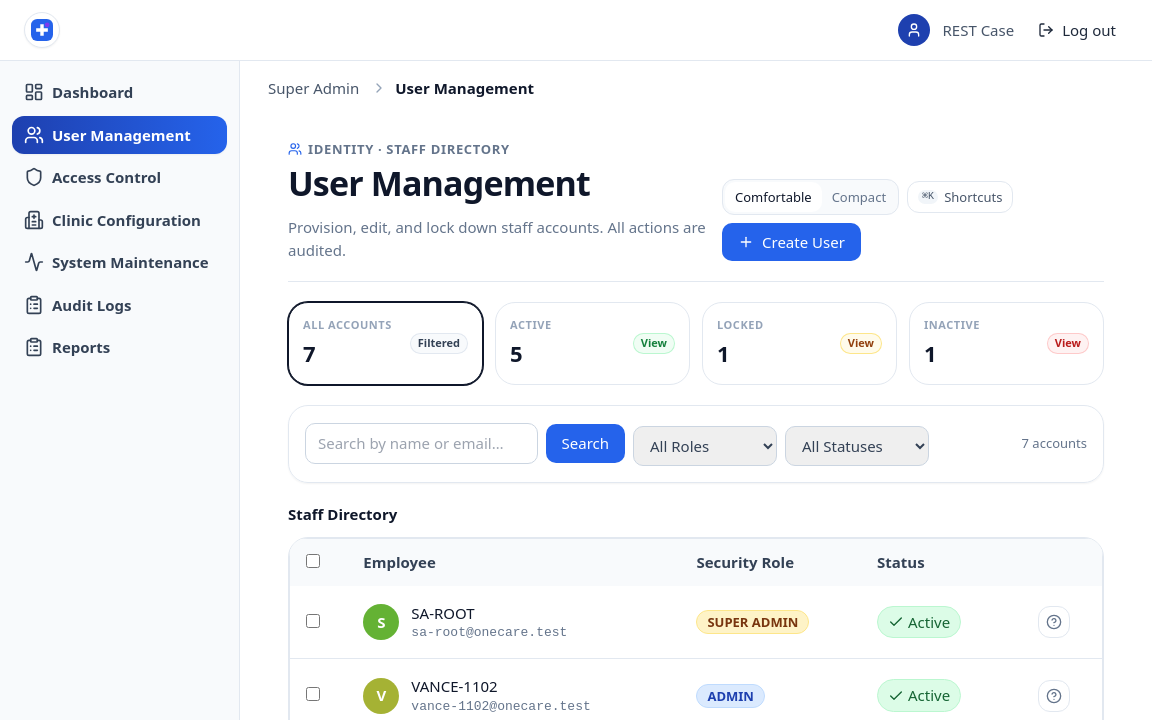
Test: super-admin user management — REST cases › rolls the row back when the backend refuses the deactivation
The width and height of the screenshot is (1152, 720).
Click the button without text in the row of "vance-1102@onecare.test".
click(1054, 696)  # box [1038,680,1070,712]
(page scrolled)
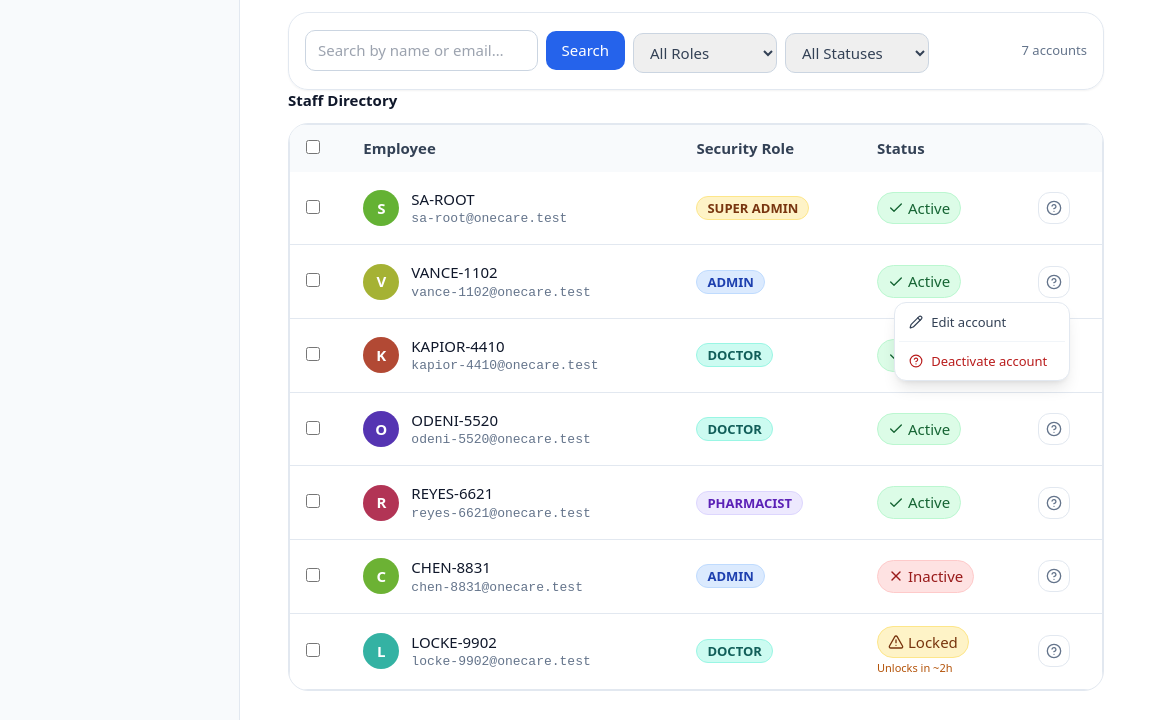
Expected: the menu is shown, [894,302,1070,381]
Click the button "Deactivate account".
click(982, 361)  # box [899,346,1065,376]
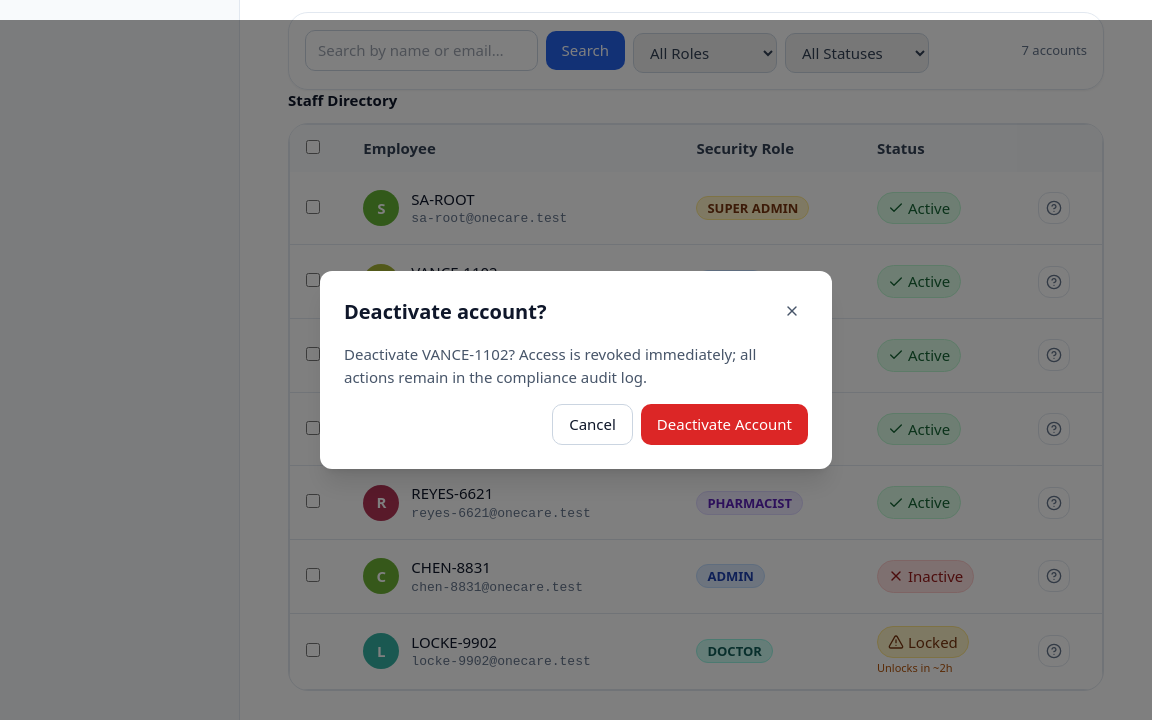
Click the button "Deactivate Account".
click(724, 425)  # box [641,404,808,445]
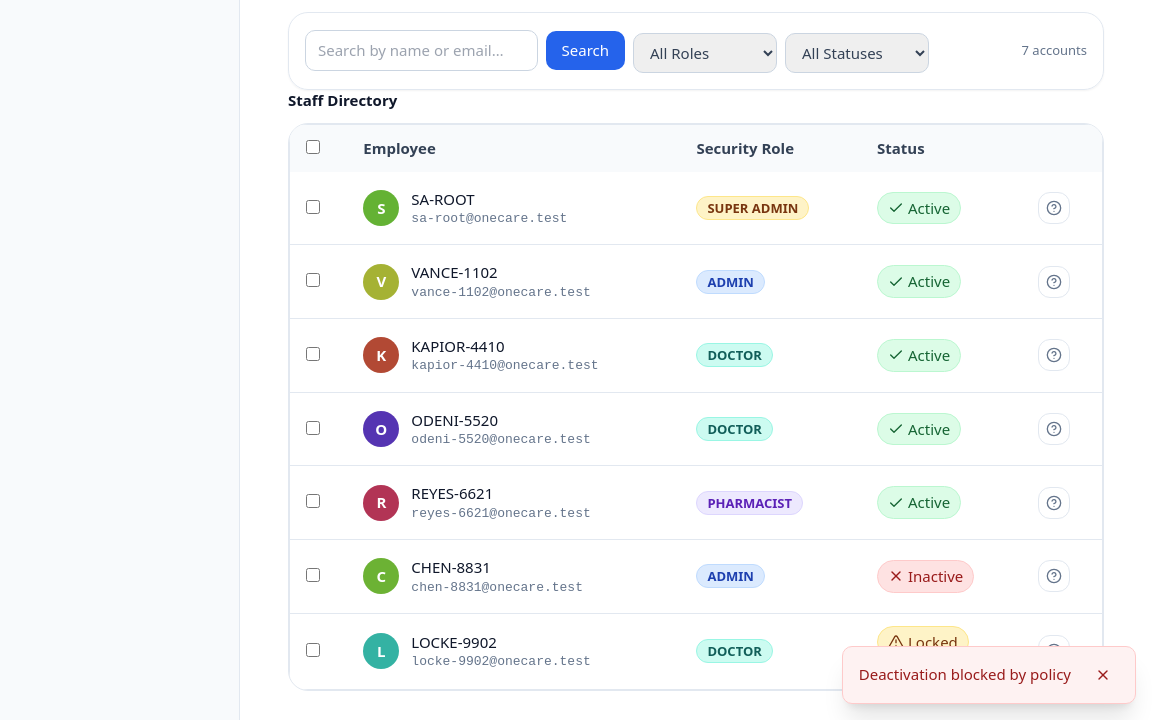
Expected: the text "Active" in the row of "vance-1102@onecare.test" is shown, [908,271,950,291]
Expected: the message reads "Deactivation blocked by policy", [859,664,1071,684]
